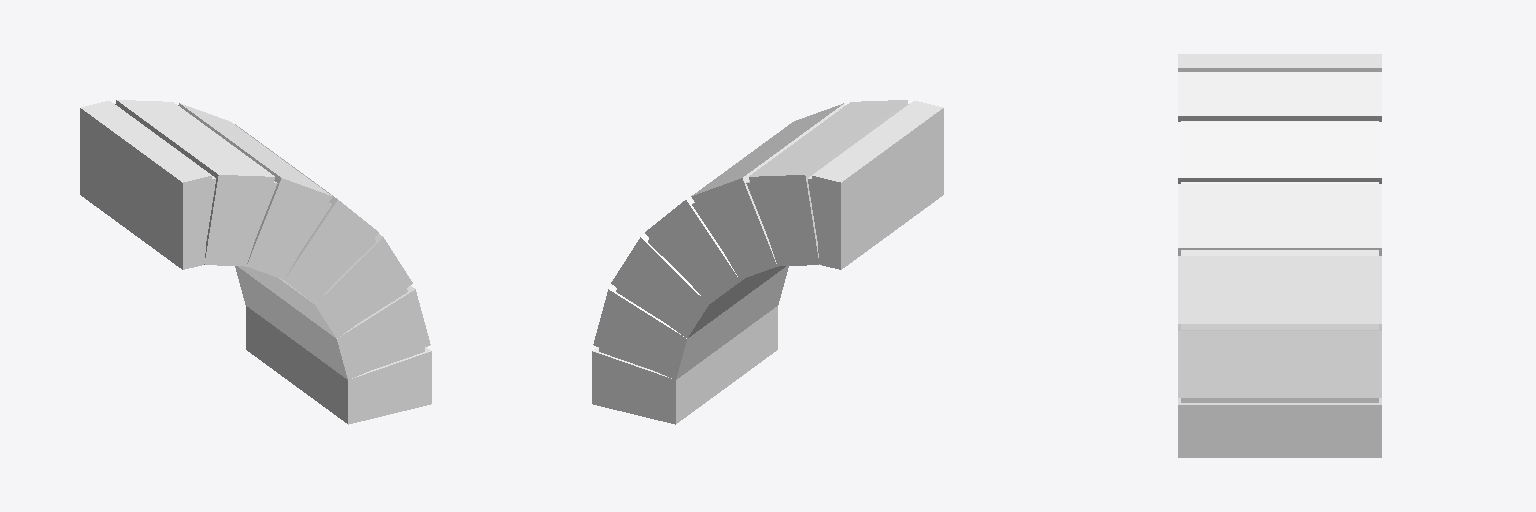
File: generic_round_arch_2.obj
The picture shows the model from 3 angles: view 1: azimuth 30°, elevation 25°; view 2: azimuth 150°, elevation 25°; view 3: azimuth 270°, elevation 25°; orthographic projection.
Parts seen in each view (by area): view 1: arch_2, arch_2_inner; view 2: arch_2, arch_2_inner; view 3: arch_2, arch_2_inner.
Part boxes in pixels (bbox=[...]): arch_2: bbox=[80, 100, 431, 424]; arch_2_inner: bbox=[119, 107, 424, 369]; arch_2: bbox=[592, 100, 943, 424]; arch_2_inner: bbox=[599, 107, 904, 369]; arch_2: bbox=[1178, 54, 1381, 457]; arch_2_inner: bbox=[1181, 121, 1378, 402].
Bounding box in the file's own units: 1.5 × 1.62 × 1.07.